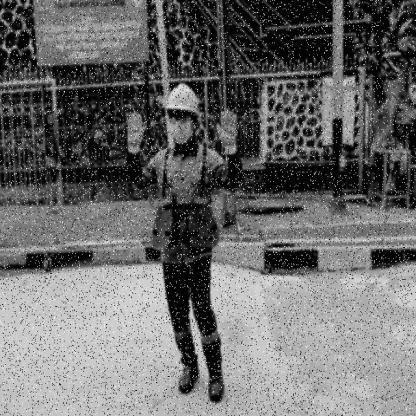boots: (177, 352, 201, 398), (204, 358, 226, 404)
gloves: (214, 107, 238, 156), (126, 110, 146, 154)
goggles: (168, 112, 196, 122)
helmet: (165, 82, 200, 118)
mask: (170, 121, 192, 144)
vest: (149, 184, 221, 254)
